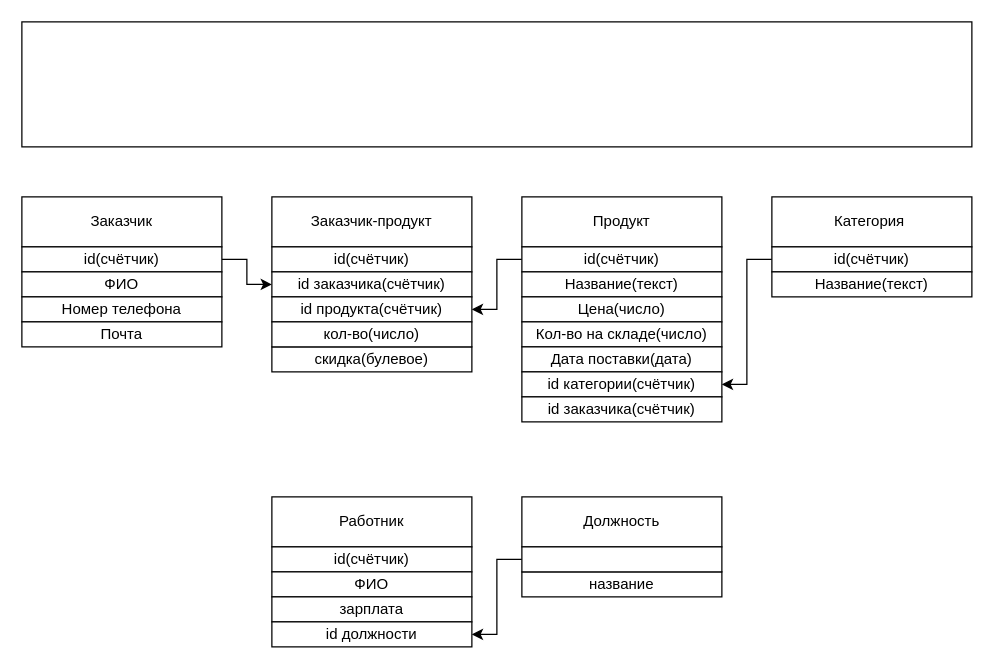
The diagram is 994 pixels wide and 669 high, and some of its shapes have lost their labels. The centre of each missing label's shape, as x and y in pixels:
id: (x=621, y=559)
БАЗА ДАННЫХ МАГАЗИНА "ШЕСТЁРОЧКА": (x=496, y=84)
